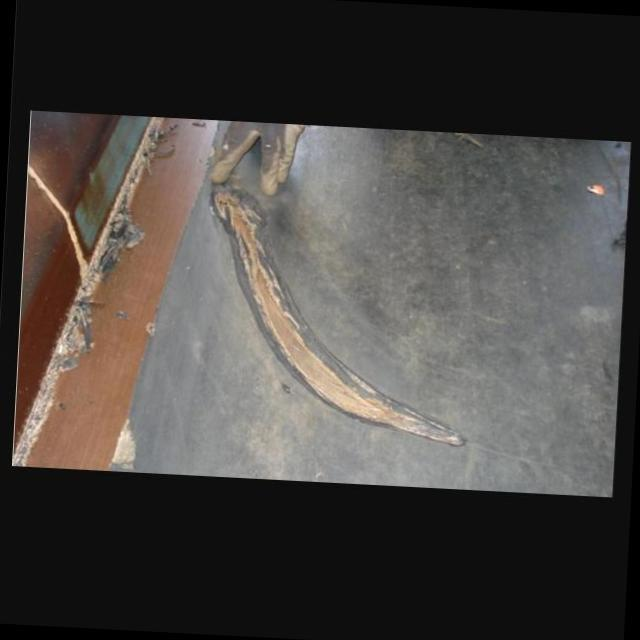Wear: (204, 180, 473, 448)
